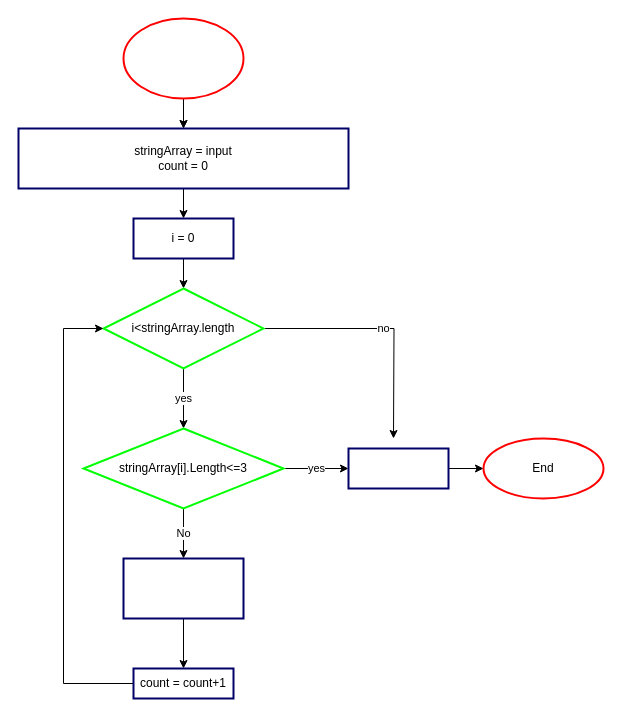
Image size: 621x716. Some labels were removed from this diagram. The centre of each missing label's shape, as x and y in pixels:
finalArray[count] = stringArray[i]: the point at 183,588
print (finalArray): the point at 398,468
Start: the point at 183,58
